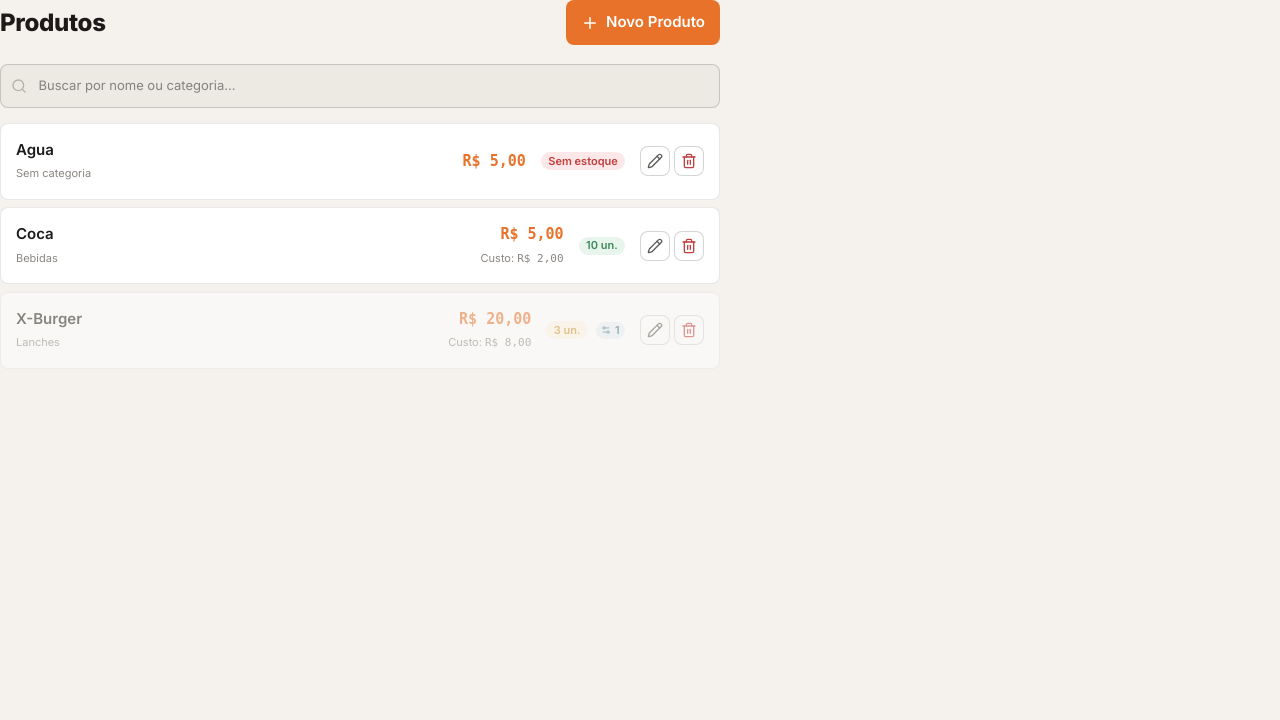
Test: ProductsPage › marca "Controlar estoque" por padrão em um produto novo
Expected: the text "Coca" is shown, [16, 224, 54, 243]
Click the button "Novo Produto": {"x": 643, "y": 22} [566, 0, 720, 45]
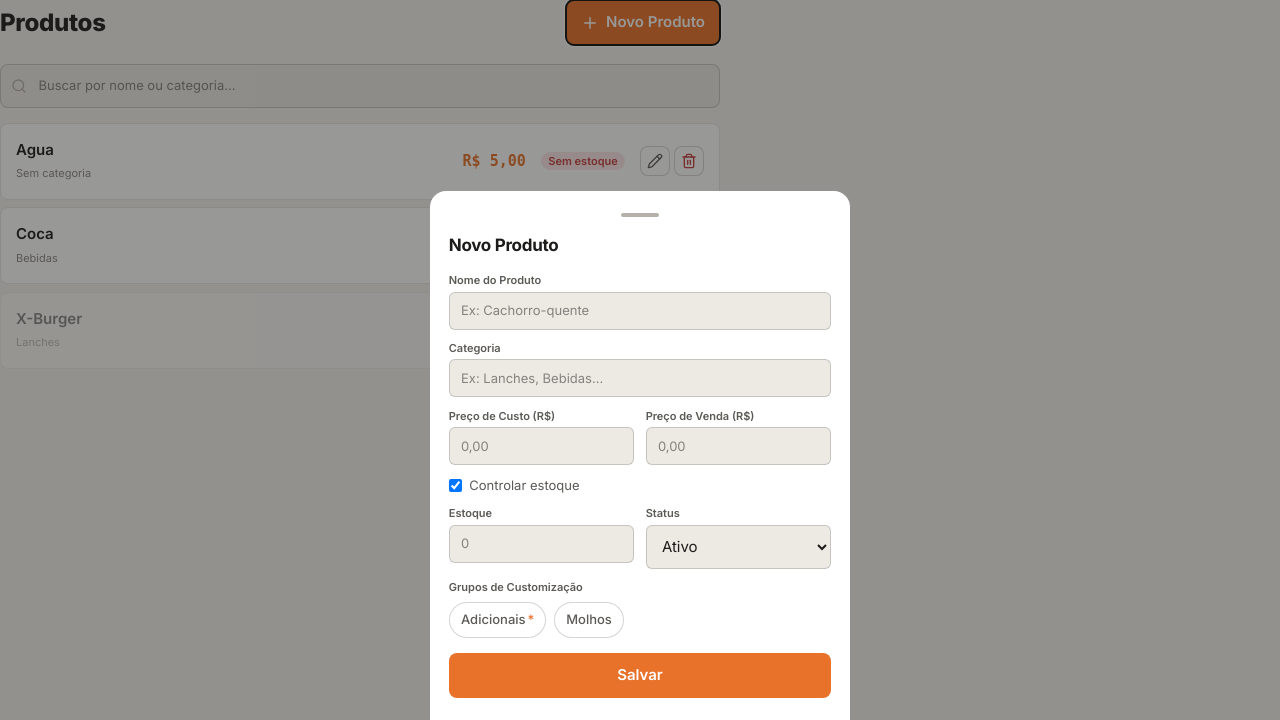
Expected: the checkbox labelled "Controlar estoque" is checked, [449, 479, 462, 492]
Expected: the number field labelled "Estoque" is shown, [449, 524, 634, 562]
